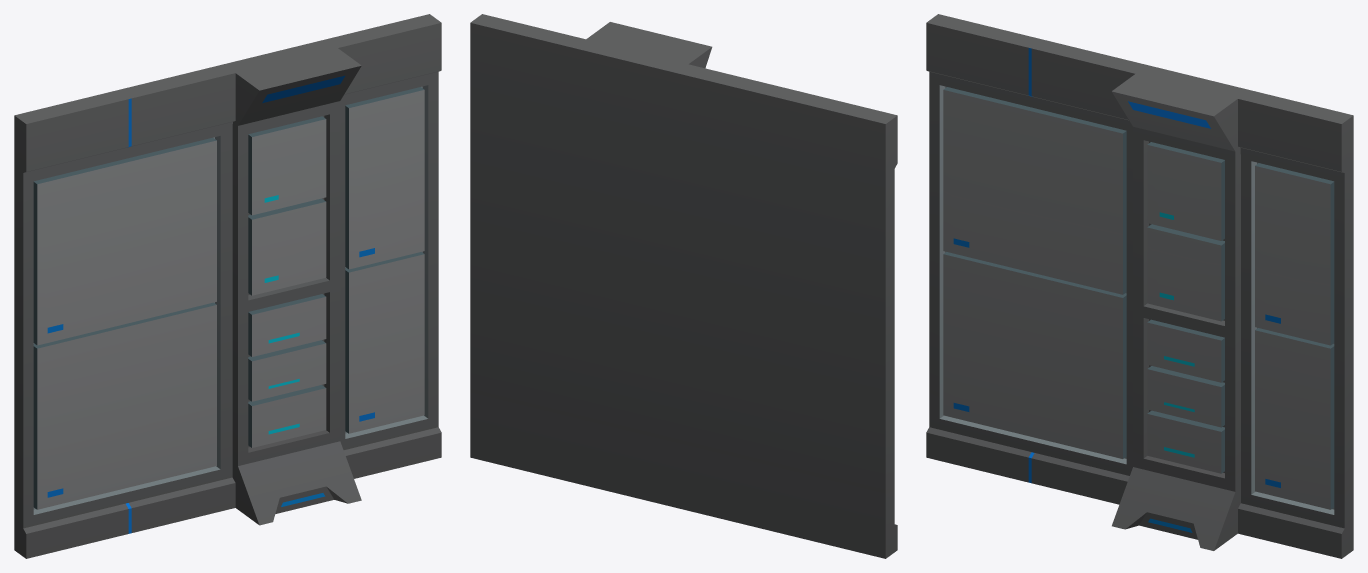
The model's file is Wall_type_B_009.fbx.
3 views of the same model, side by side, from view 1: azimuth 30°, elevation 25°; view 2: azimuth 150°, elevation 25°; view 3: azimuth 330°, elevation 25° (orthographic).
Parts seen in each view (by area): view 1: Wall_type_B_009; view 2: Wall_type_B_009; view 3: Wall_type_B_009.
Part boxes in pixels (box(x1,y1,x2,y2)): Wall_type_B_009: box(14, 14, 441, 558); Wall_type_B_009: box(470, 14, 897, 558); Wall_type_B_009: box(926, 14, 1353, 558).
Size of the model in its own units: 400 by 60 by 400.
